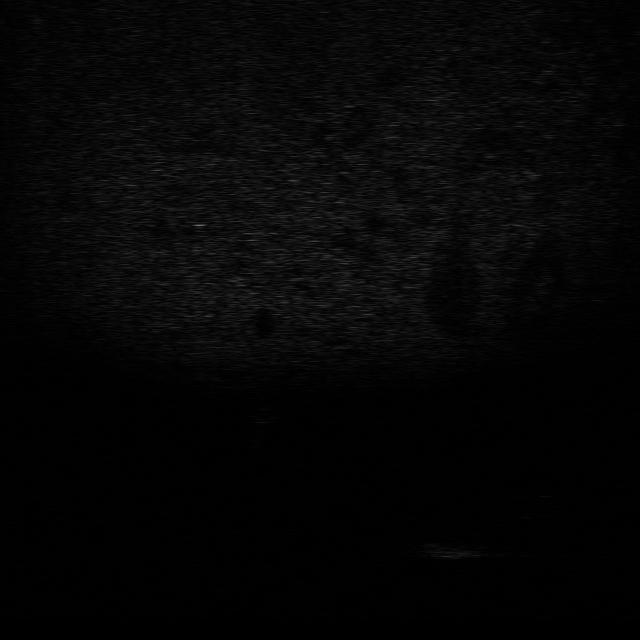ball: (242, 402, 280, 425)
metal bucket: (414, 539, 490, 562)
tyre: (509, 491, 566, 522)
